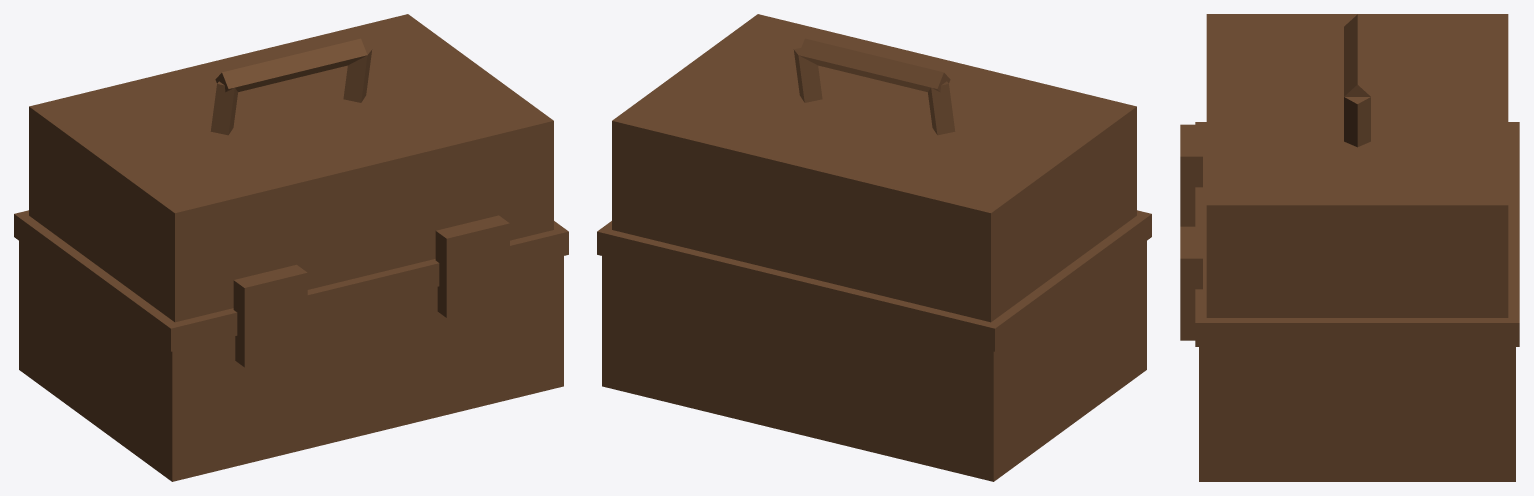
File: suitcase.fbx
The picture shows the model from 3 angles, left to right: view 1: azimuth 30°, elevation 25°; view 2: azimuth 150°, elevation 25°; view 3: azimuth 270°, elevation 25°; orthographic projection. The views are drawn at different scales.
Parts seen in each view (by area): view 1: Suitcase; view 2: Suitcase; view 3: Suitcase.
Boxes of the visible parts, bbox=[...] form: Suitcase: bbox=[14, 14, 568, 481]; Suitcase: bbox=[597, 14, 1151, 481]; Suitcase: bbox=[1180, 14, 1519, 481].
Bounding box in the file's own units: 0.63 × 0.488 × 0.45.
